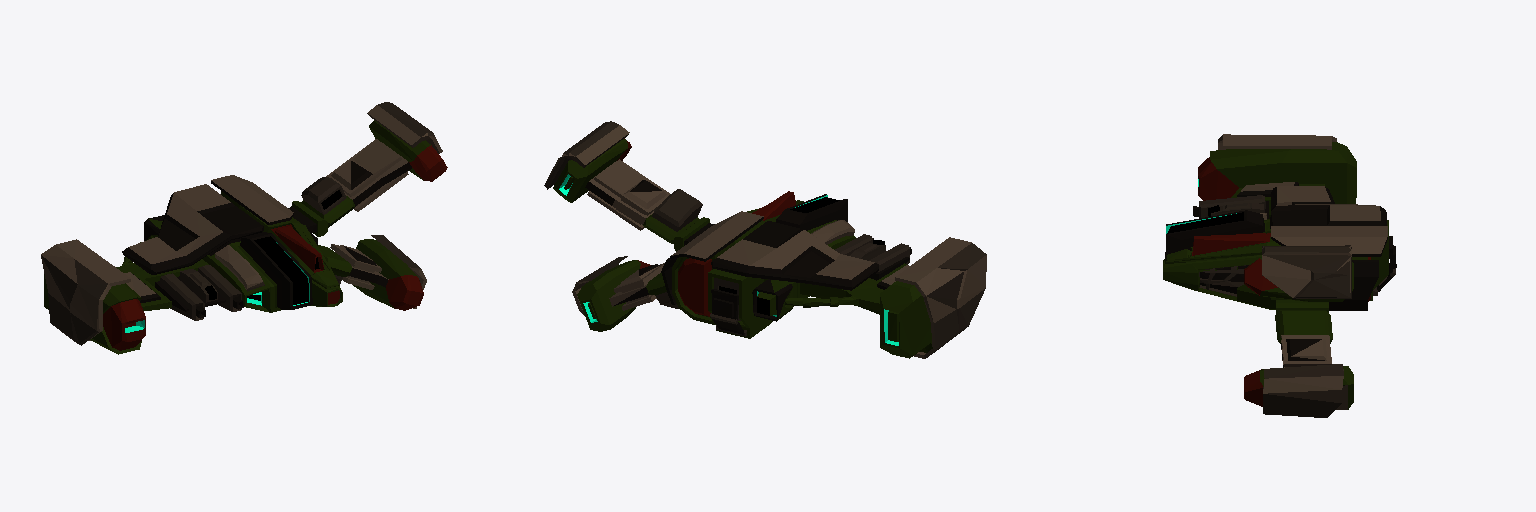
Rendered from PirateShip.obj.
3 views of the same model, side by side, from view 1: azimuth 30°, elevation 25°; view 2: azimuth 150°, elevation 25°; view 3: azimuth 270°, elevation 25° (orthographic).
Visible parts, largest first — view 1: Cube_1_Mesh.026; view 2: Cube_1_Mesh.026; view 3: Cube_1_Mesh.026.
Boxes of the visible parts, <box> form: Cube_1_Mesh.026: <box>41,102,447,354</box>; Cube_1_Mesh.026: <box>544,121,986,358</box>; Cube_1_Mesh.026: <box>1163,134,1396,417</box>.
Bounding box in the file's own units: 13.74 × 6.2 × 7.34.